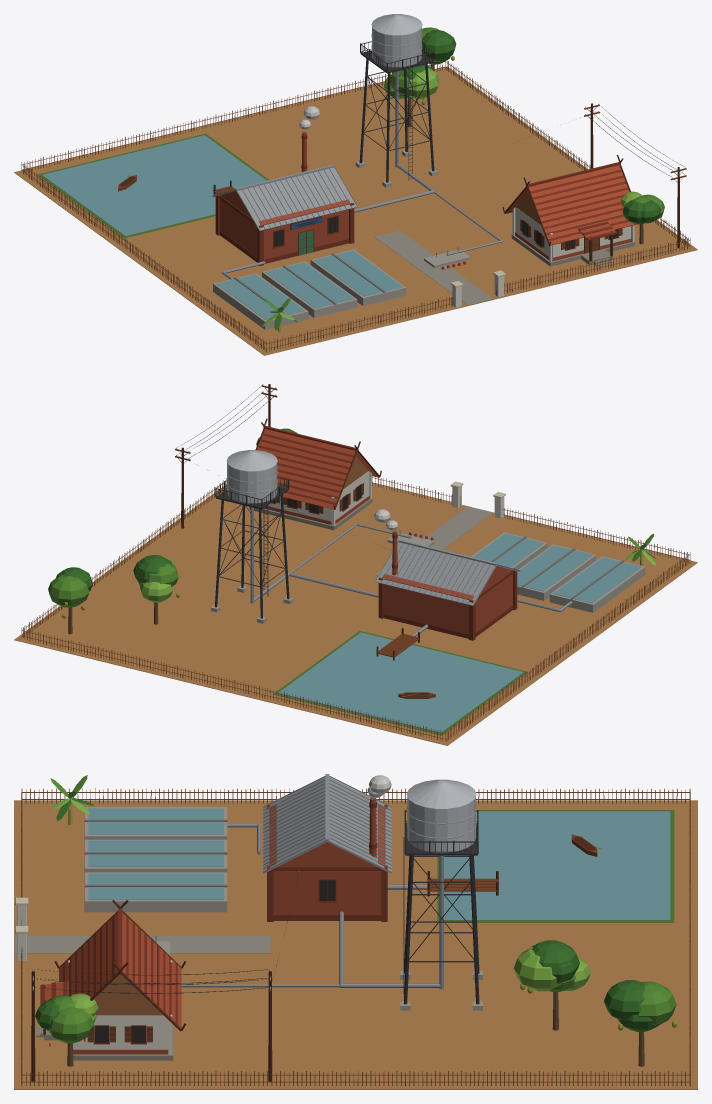
File: water_works.glb
3 renders of one model, top to bottom at view 1: azimuth 30°, elevation 25°; view 2: azimuth 150°, elevation 25°; view 3: azimuth 270°, elevation 25°, orthographic. The views are drawn at different scales.
Parts seen in each view (by area): view 1: body, windows; view 2: body; view 3: body, windows.
Part boxes in pixels (x1,y1,x2,y2): body: [14, 14, 697, 355]; windows: [274, 216, 617, 248]; body: [14, 384, 697, 745]; body: [14, 774, 697, 1089]; windows: [95, 880, 335, 1042].
Size of the model in its own units: 47.9 by 16.66 by 47.9.
